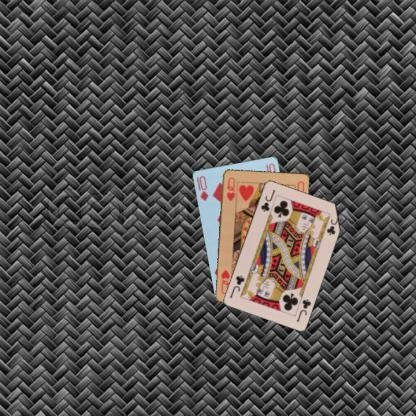10d: (194, 174, 210, 202)
Jc: (294, 296, 312, 323), (258, 186, 276, 212)
Qh: (224, 174, 236, 202)
